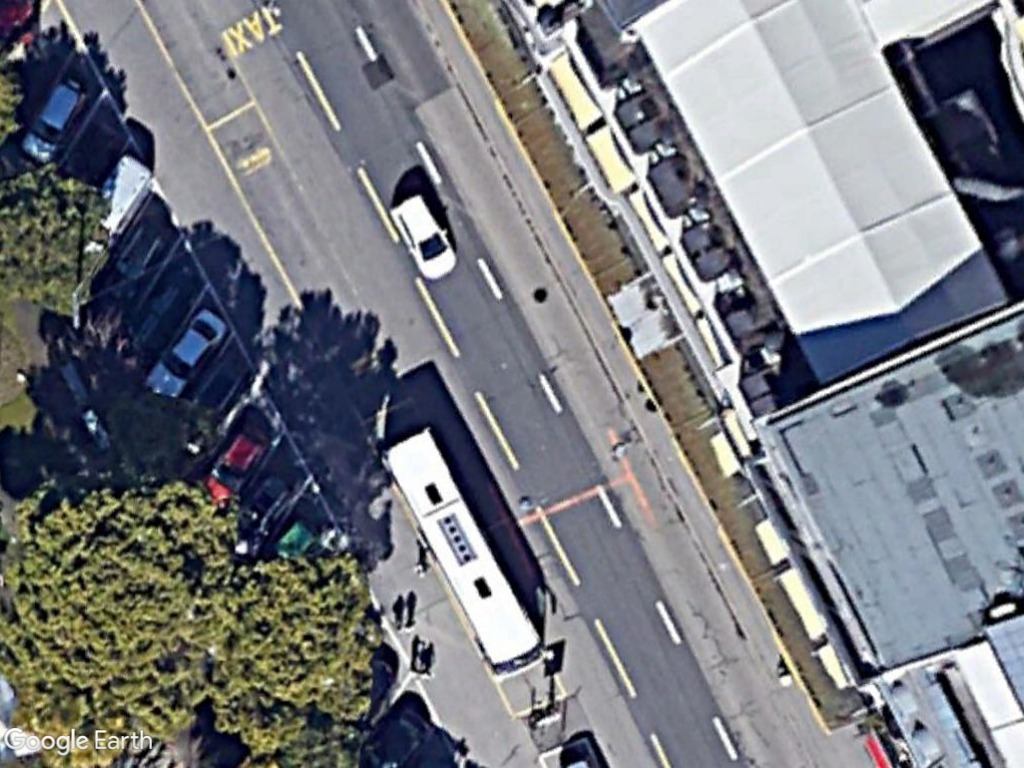bus: (374, 420, 543, 685)
car: (142, 304, 229, 407), (387, 186, 459, 289), (14, 71, 87, 168)
